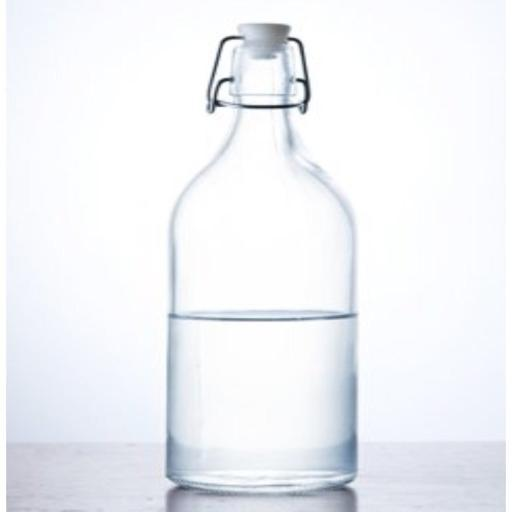bottle: (146, 16, 374, 504)
